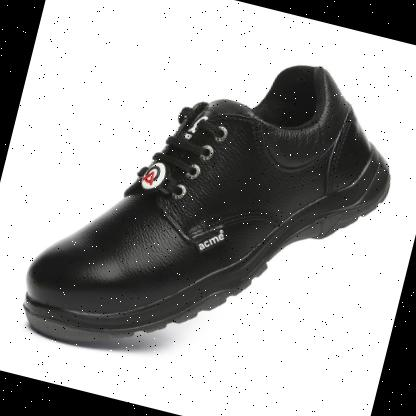bota: (10, 4, 416, 412)
